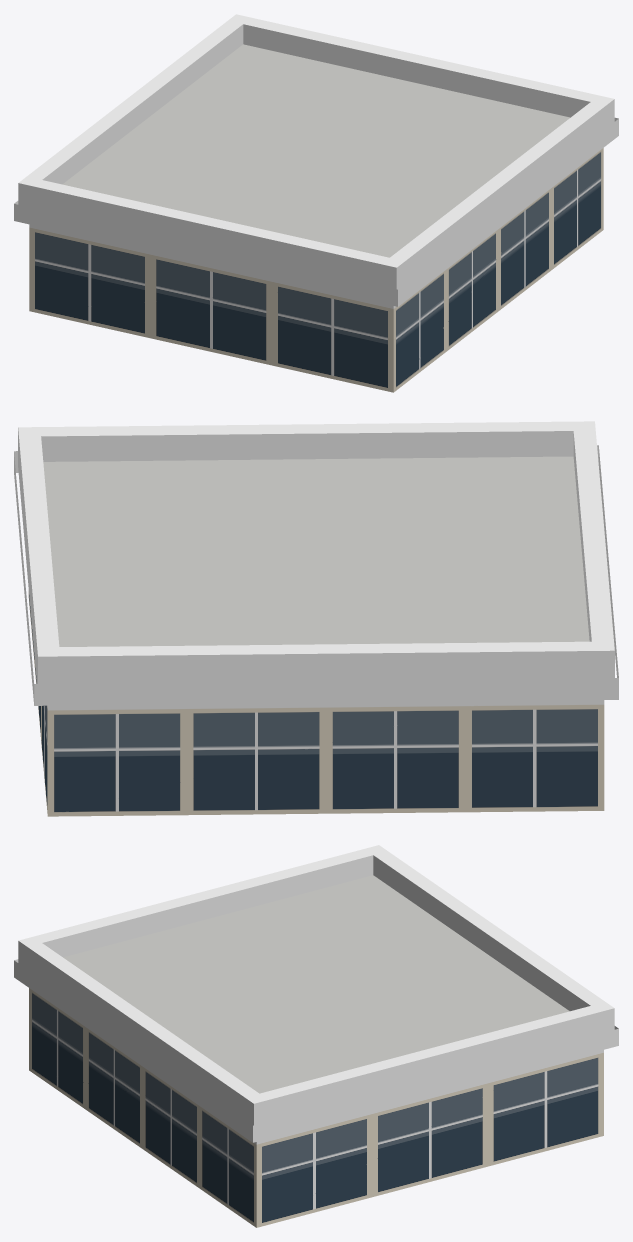
File: cadushi.glb
The picture shows the model from 3 angles, top to bottom: view 1: azimuth 30°, elevation 25°; view 2: azimuth 150°, elevation 25°; view 3: azimuth 270°, elevation 25°; orthographic projection. The views are drawn at different scales.
Visible parts, largest first — view 1: cadushi_lod0; view 2: cadushi_lod0; view 3: cadushi_lod0.
Boxes of the visible parts, box(x1,y1,x2,y2) form: cadushi_lod0: box(14, 14, 618, 392); cadushi_lod0: box(14, 421, 618, 816); cadushi_lod0: box(14, 845, 618, 1227).
Size of what is drawn, in the model's own units: 19.67 by 4.5 by 19.16.
3 materials, 1 textured.
